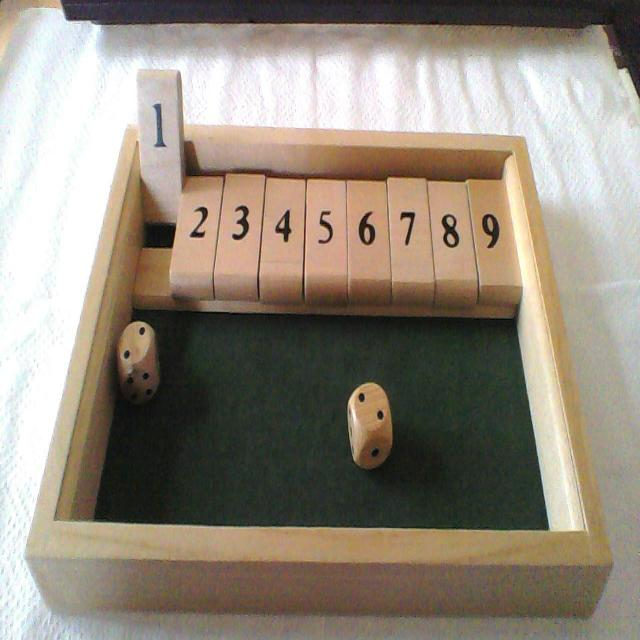2: (341, 372, 400, 446), (110, 312, 163, 386)
C2: (170, 125, 224, 303)
C3: (215, 123, 268, 305)
C4: (259, 127, 306, 308)
C5: (304, 128, 348, 306)
C6: (348, 131, 392, 308)
C7: (386, 132, 436, 307)
C8: (427, 133, 477, 311)
C9: (468, 136, 523, 308)
O1: (133, 69, 180, 310)
